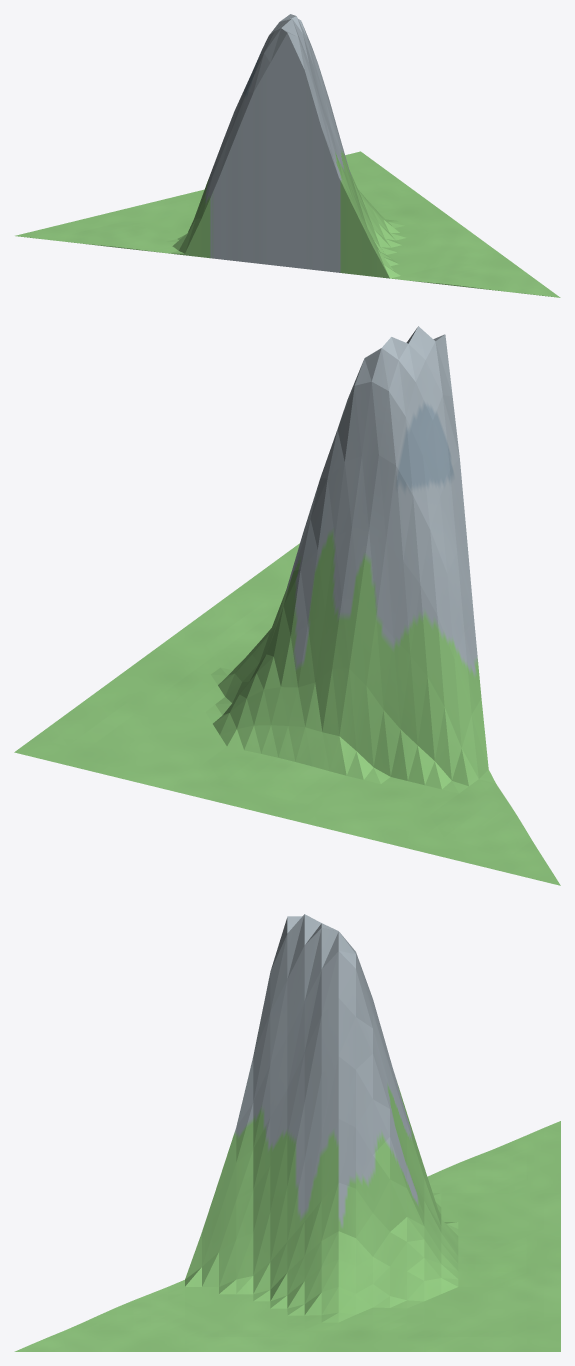
File: Grass_RockyMountains_04_SE.obj
The picture shows the model from 3 angles, top to bottom: view 1: azimuth 30°, elevation 25°; view 2: azimuth 150°, elevation 25°; view 3: azimuth 270°, elevation 25°; orthographic projection. The views are drawn at different scales.
Bounding box in the file's own units: 10 × 6.65 × 10.
1 material, 1 textured.
